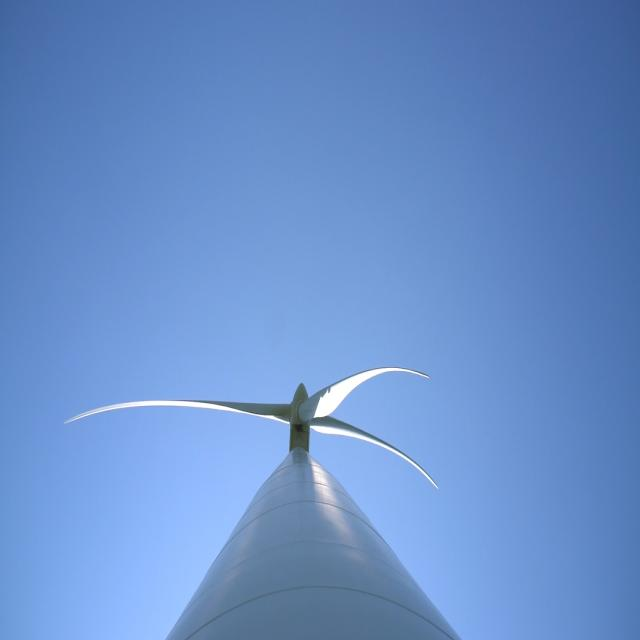blade 1: (302, 365, 489, 418)
blade 2: (344, 426, 452, 496)
blade 3: (36, 362, 286, 434)
